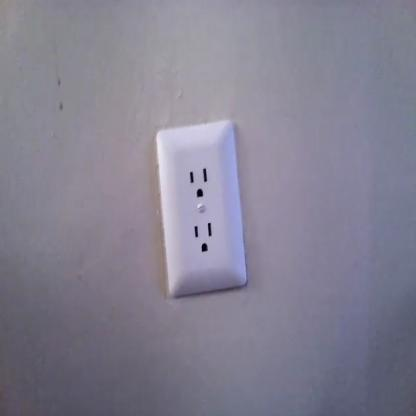OUTLET: (156, 122, 247, 293)
